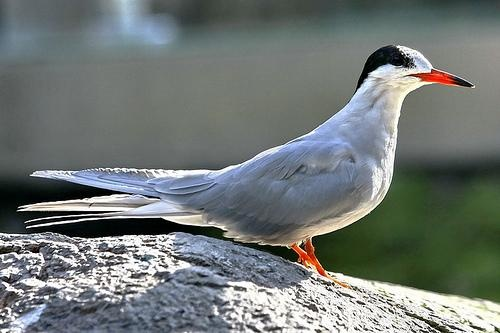bird: (16, 44, 475, 288)
